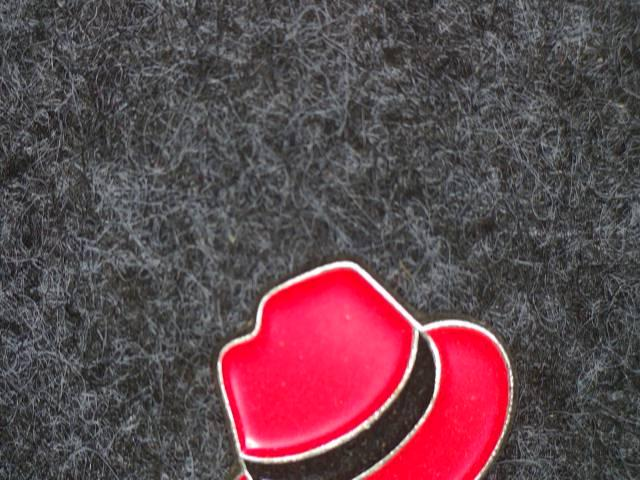Red-Hat: (151, 251, 538, 480)
